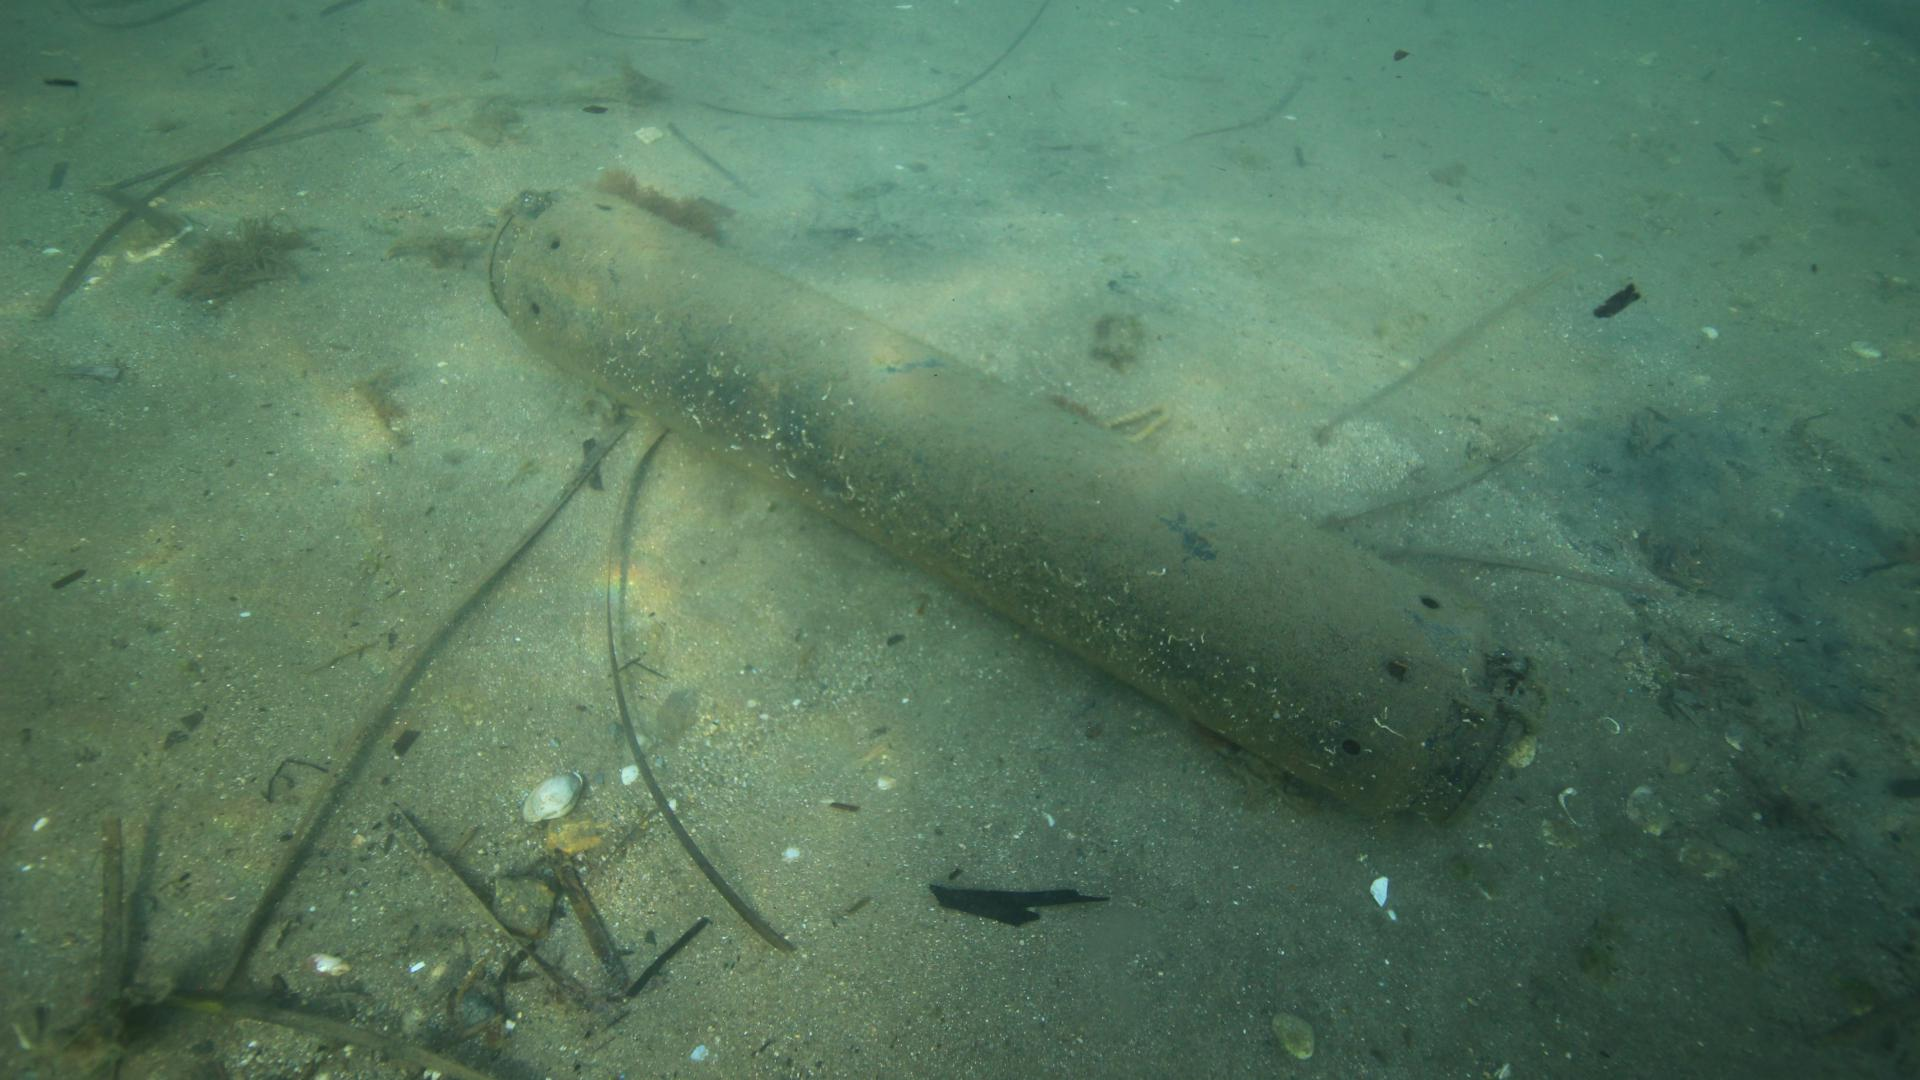eel fish trap: (483, 183, 1527, 824)
